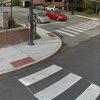Crosswalk: (20, 57, 100, 100)
